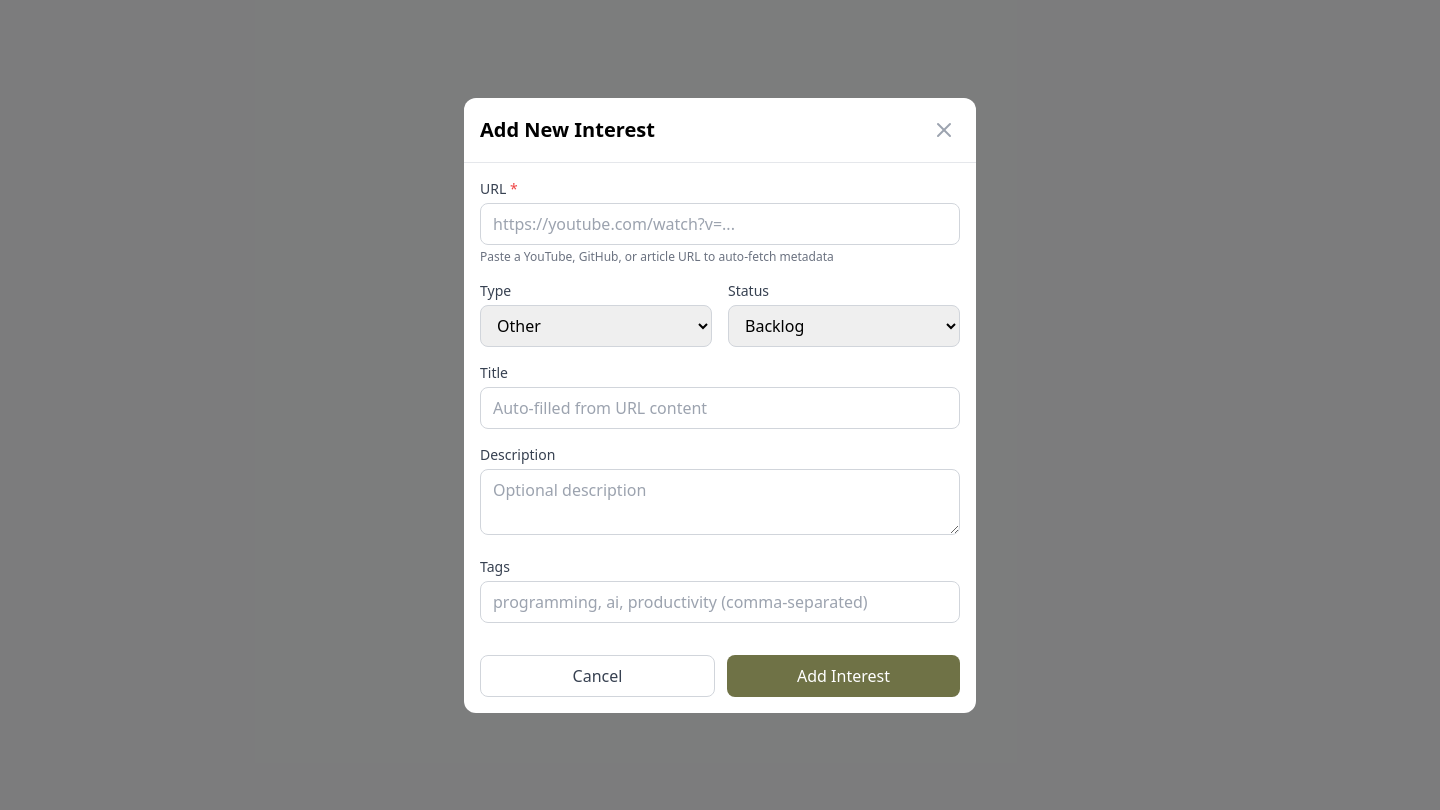
it: AddInterestModal › form submission › shows loading state during submission
Type "https://example.com/page" into the field with placeholder "https://youtube.com/watch?v=..." at (720, 224), box x1=480 y1=202 x2=960 y2=244
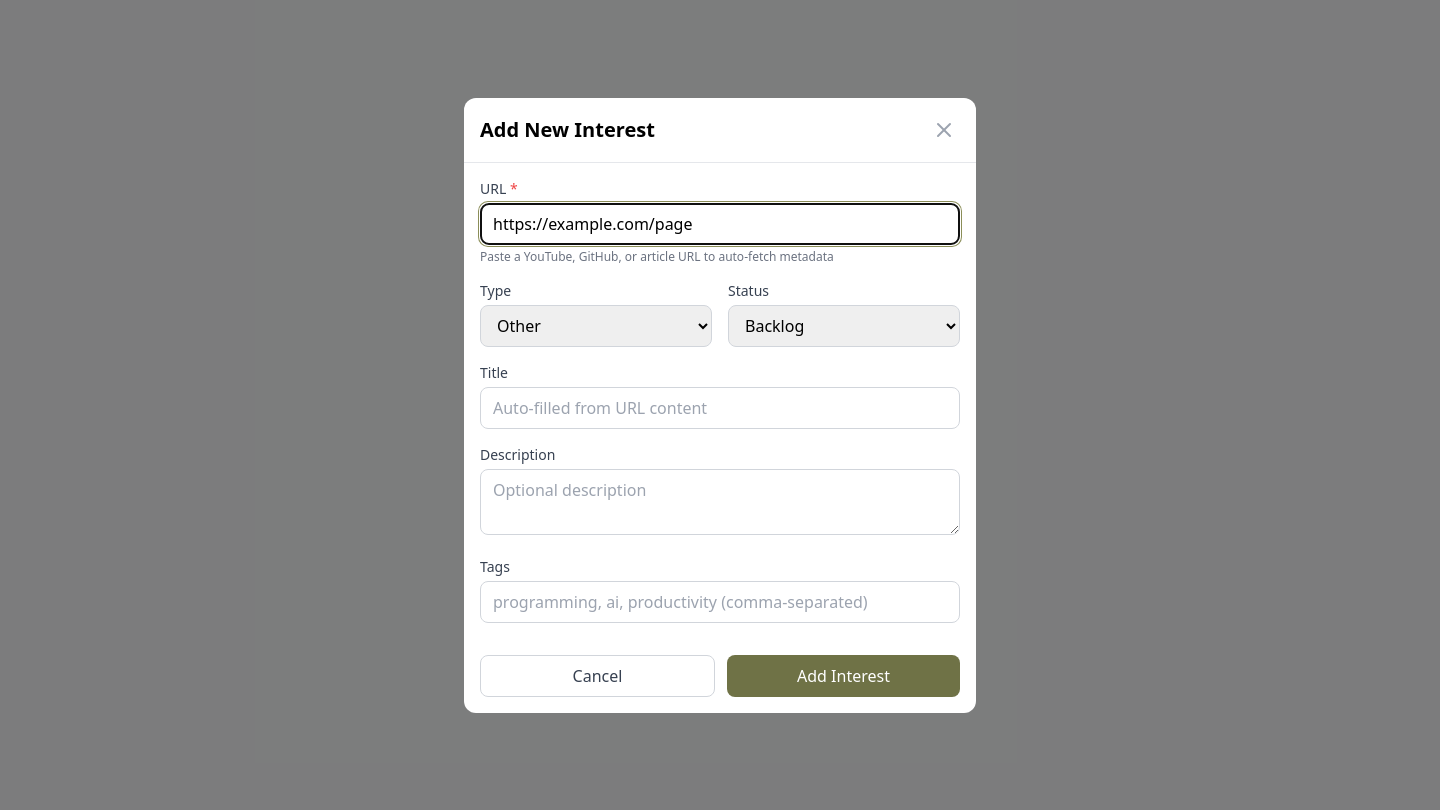
Click the button "Add Interest" at (844, 676), box x1=727 y1=654 x2=960 y2=696
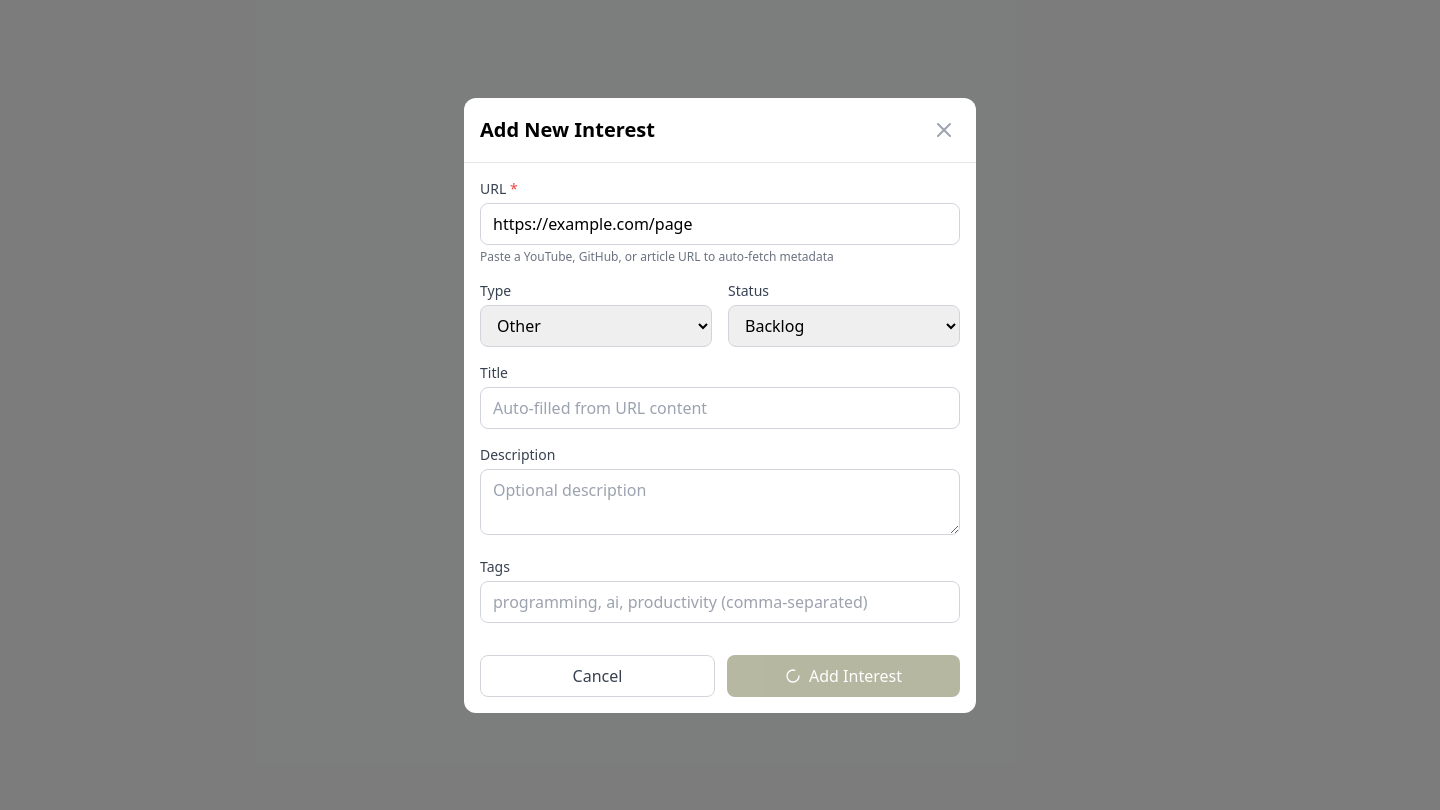
Expected: the button "Add Interest" is disabled, x1=727 y1=654 x2=960 y2=696
